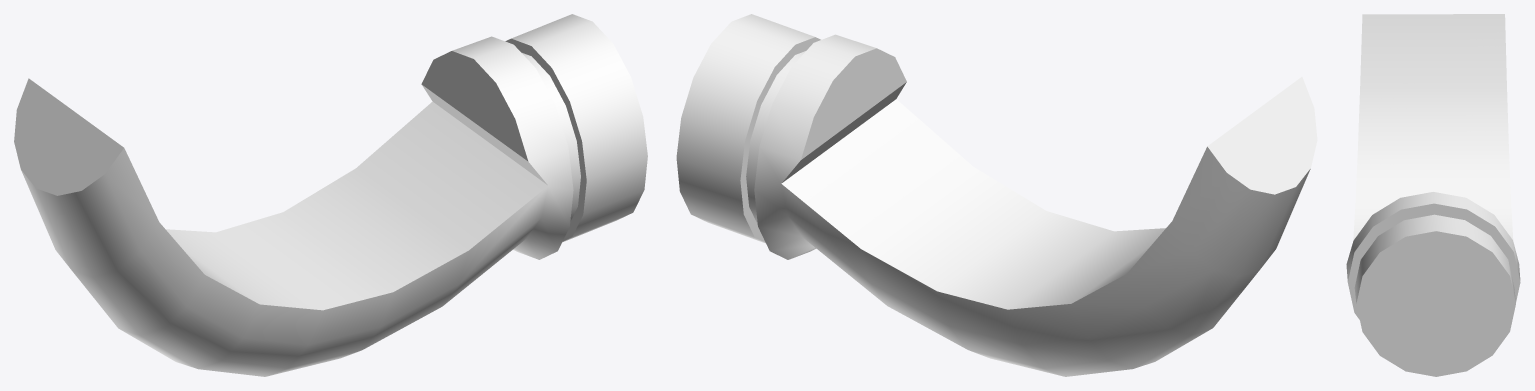
File: Pipe.fbx
3 renders of one model, left to right at view 1: azimuth 30°, elevation 25°; view 2: azimuth 150°, elevation 25°; view 3: azimuth 270°, elevation 25°, orthographic. The views are drawn at different scales.
Visible parts, largest first — view 1: Pipe; view 2: Pipe; view 3: Pipe.
Boxes of the visible parts, left/top/right/bottom form: Pipe: left=14, top=14, right=647, bottom=376; Pipe: left=676, top=14, right=1317, bottom=376; Pipe: left=1346, top=14, right=1520, bottom=376.
Bounding box in the file's own units: 74.8 × 26.71 × 37.77.
1 material, 1 textured.
